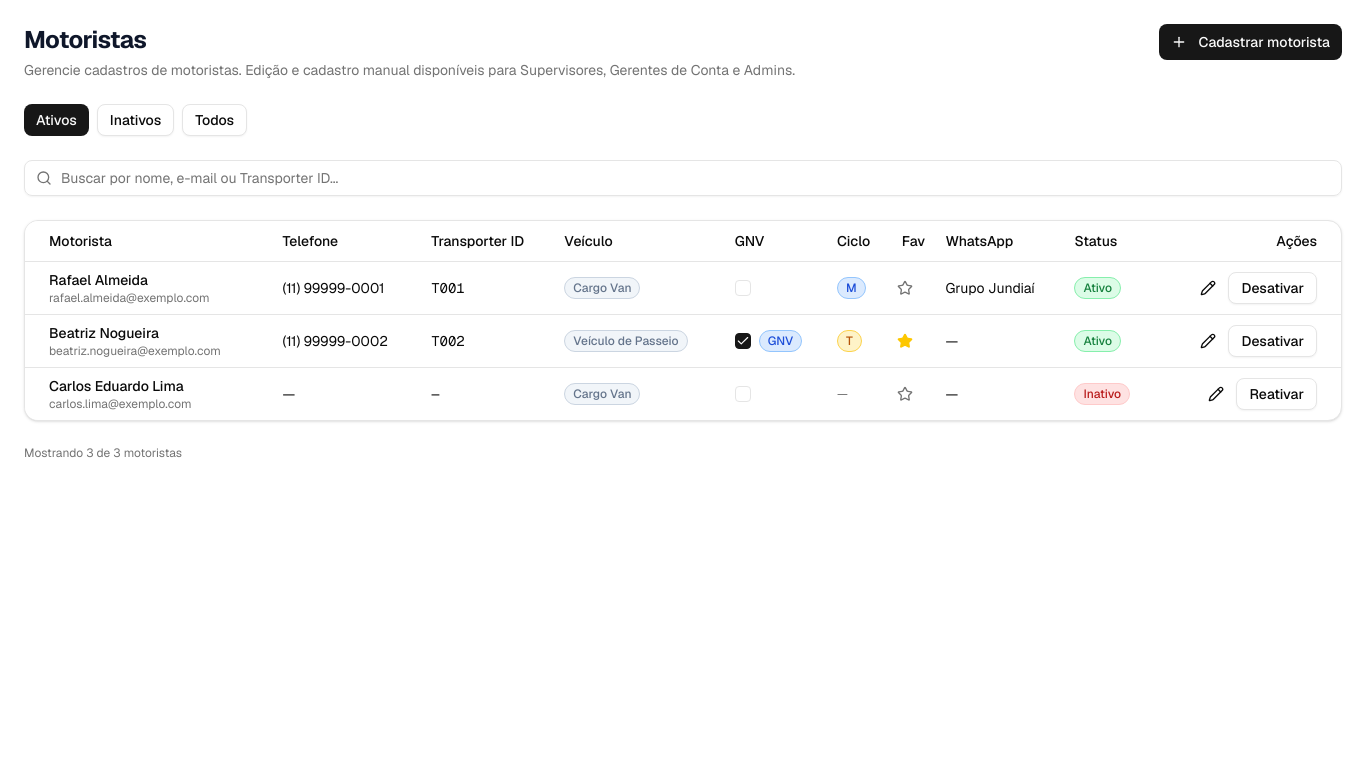
Test: DriversClient — create driver › abre modal de cadastro ao clicar no botão
Click the button "Cadastrar motorista" at (1250, 42), box [1158,24,1342,60]
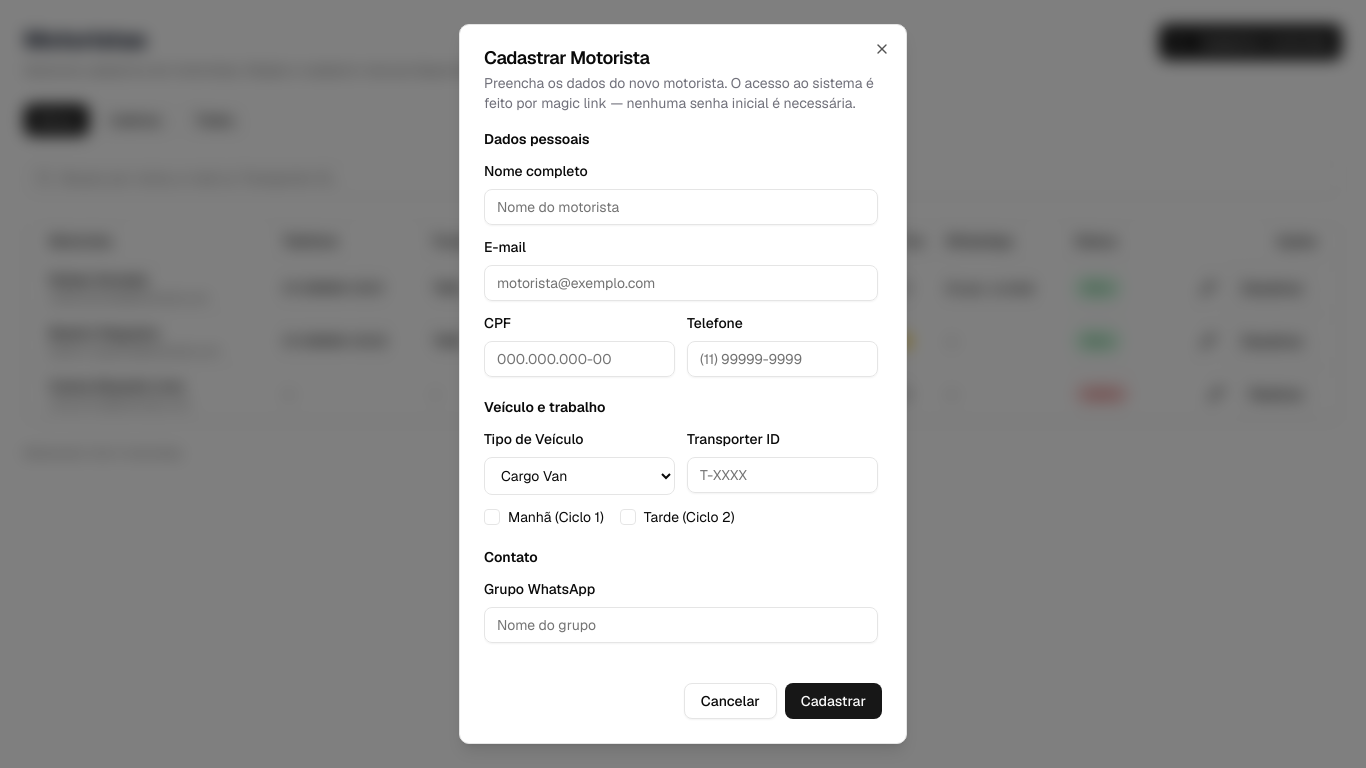
Result: the heading "Cadastrar Motorista" is shown at [484,46,649,69]
